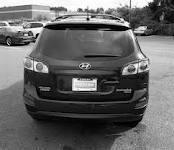car: (20, 13, 152, 129)
